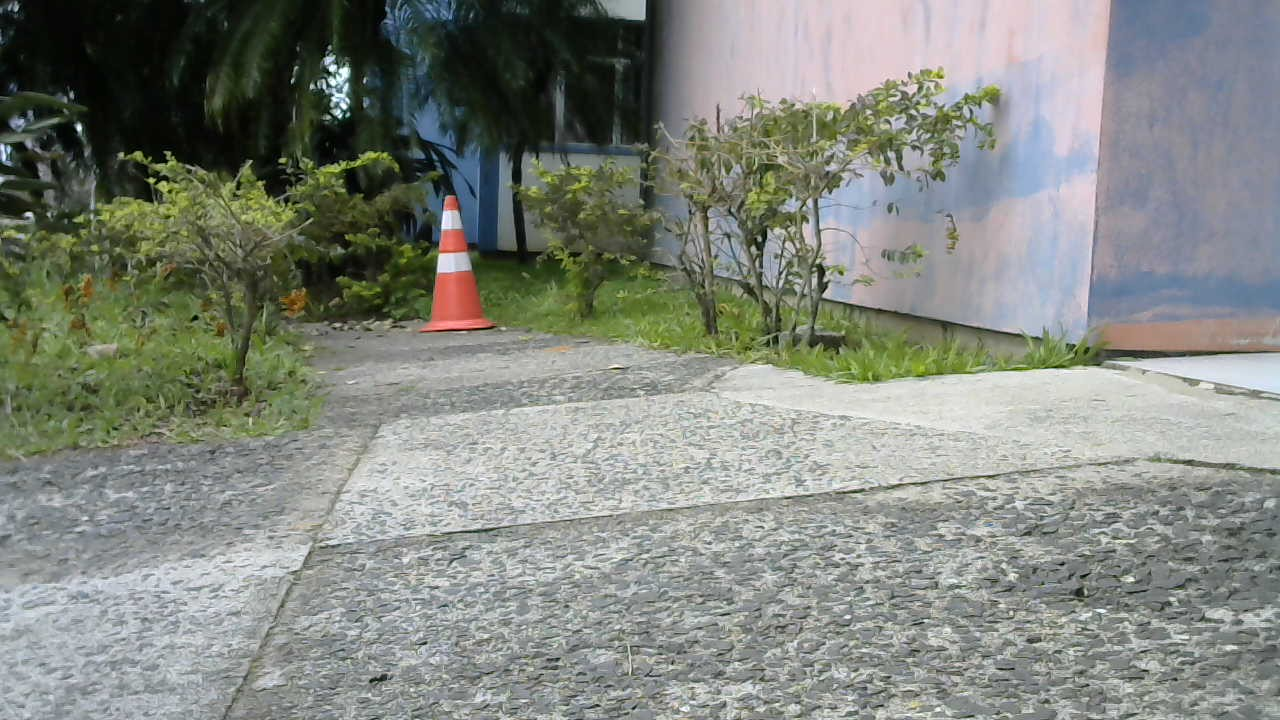cone: (426, 199, 490, 329)
